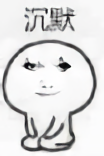dragon: (22, 57, 74, 99)
